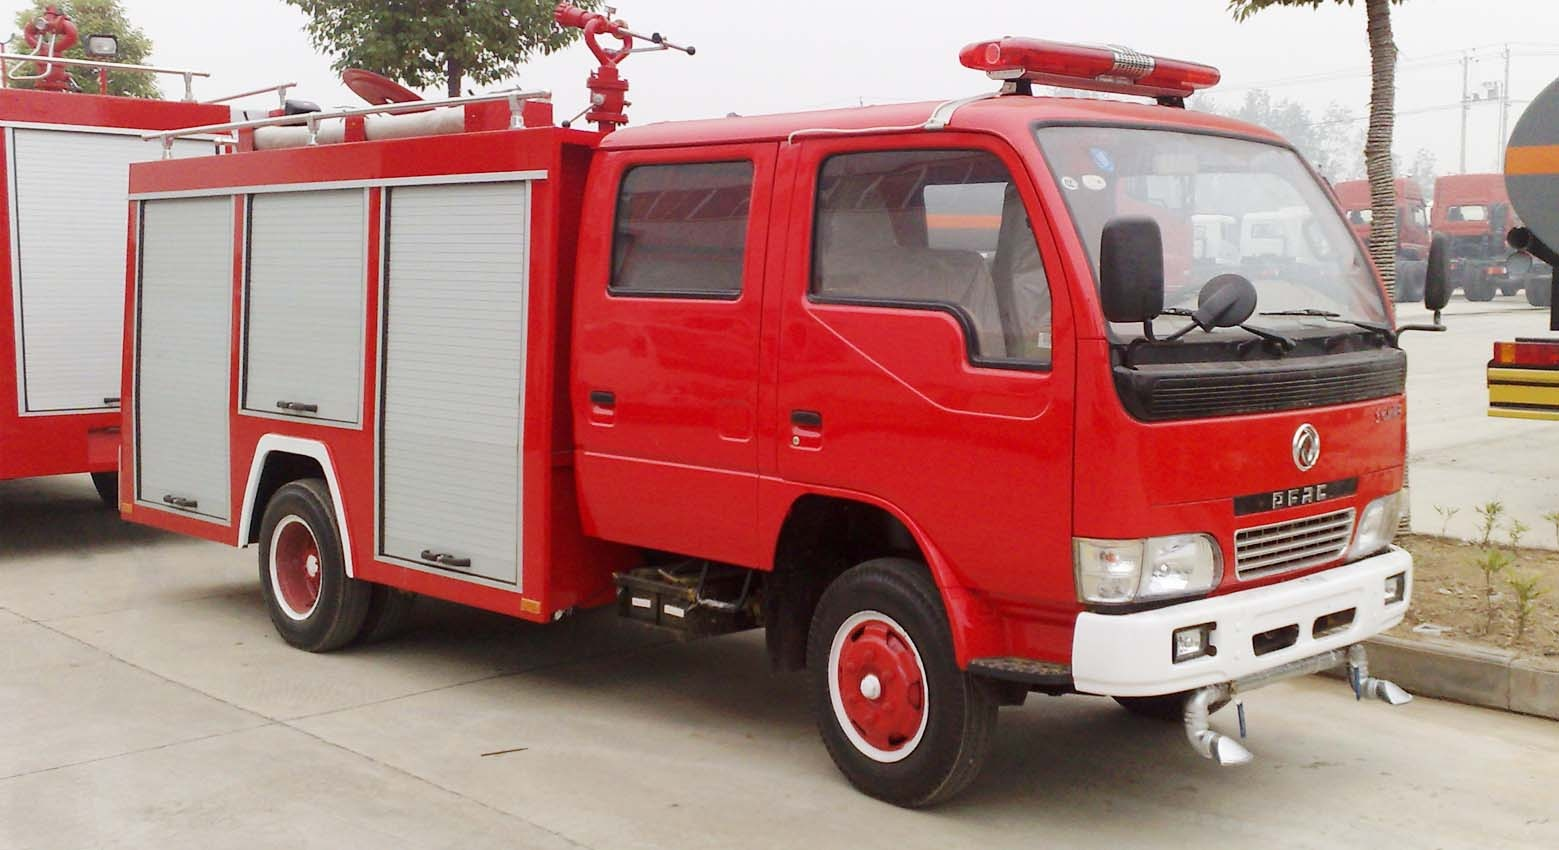fire engine: (118, 57, 1410, 786)
